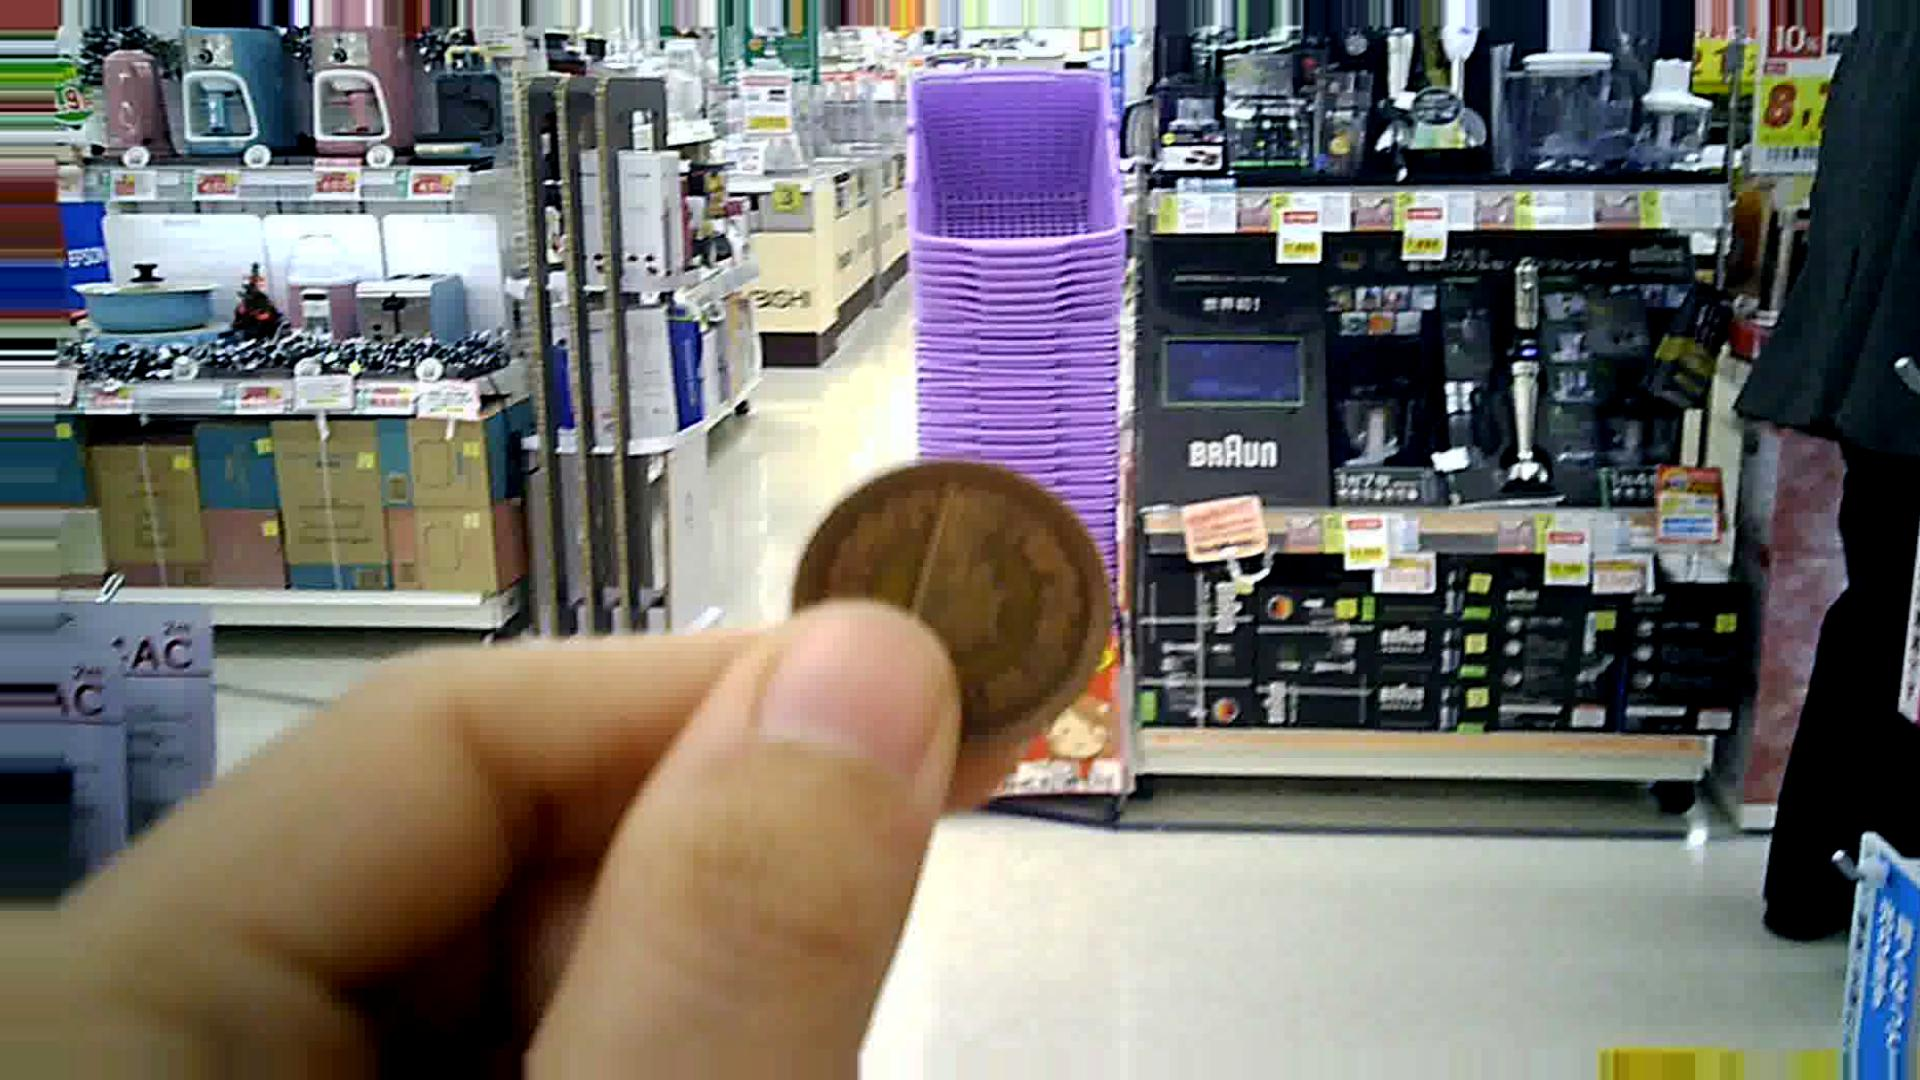10 Yen: (775, 463, 1110, 738)
